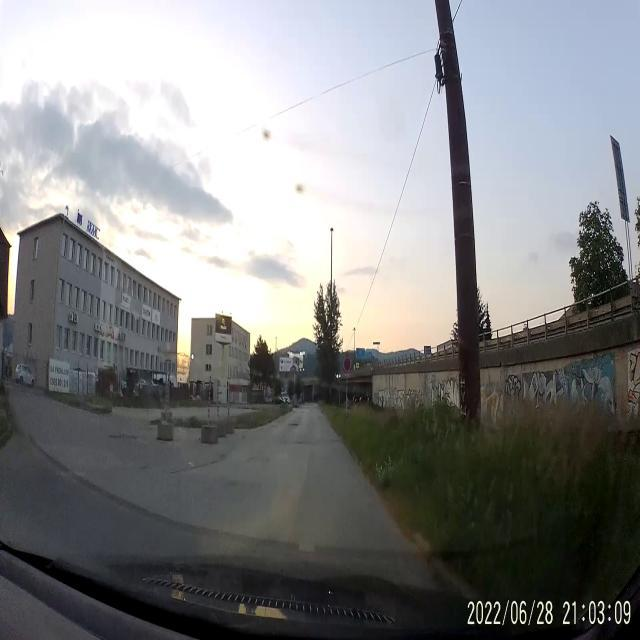Pothole: (288, 422, 300, 428)
